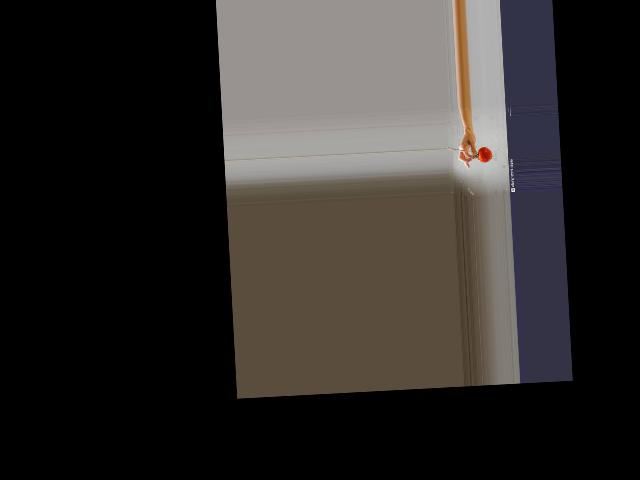tomato: (477, 145, 493, 161)
